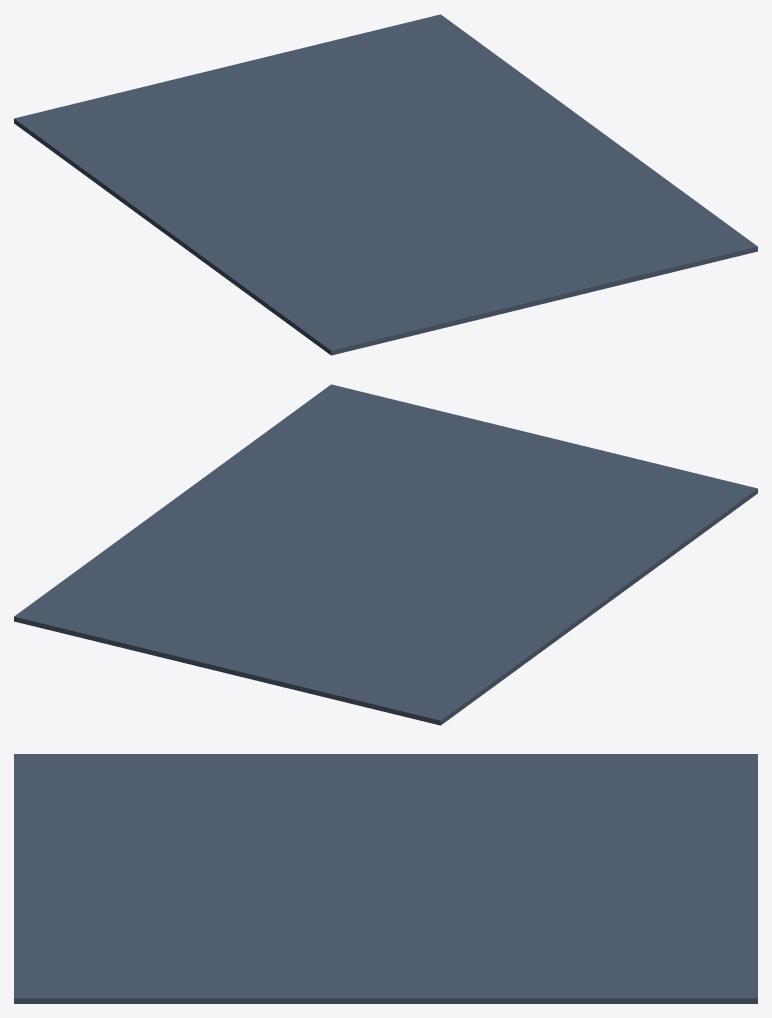
File: floor_004_f_11b2c5d7f7.obj
3 views of the same model, one above another, from view 1: azimuth 30°, elevation 25°; view 2: azimuth 150°, elevation 25°; view 3: azimuth 270°, elevation 25° (orthographic). The views are drawn at different scales.
Visible parts, largest first — view 1: Floor_004_f_11b2c5d7f7; view 2: Floor_004_f_11b2c5d7f7; view 3: Floor_004_f_11b2c5d7f7.
Boxes of the visible parts, x1,y1,x2,y2 form: Floor_004_f_11b2c5d7f7: (14,14,757,355); Floor_004_f_11b2c5d7f7: (14,384,757,725); Floor_004_f_11b2c5d7f7: (14,754,757,1003).
Size of the model in its own units: 18.25 by 0.2 by 23.5.
